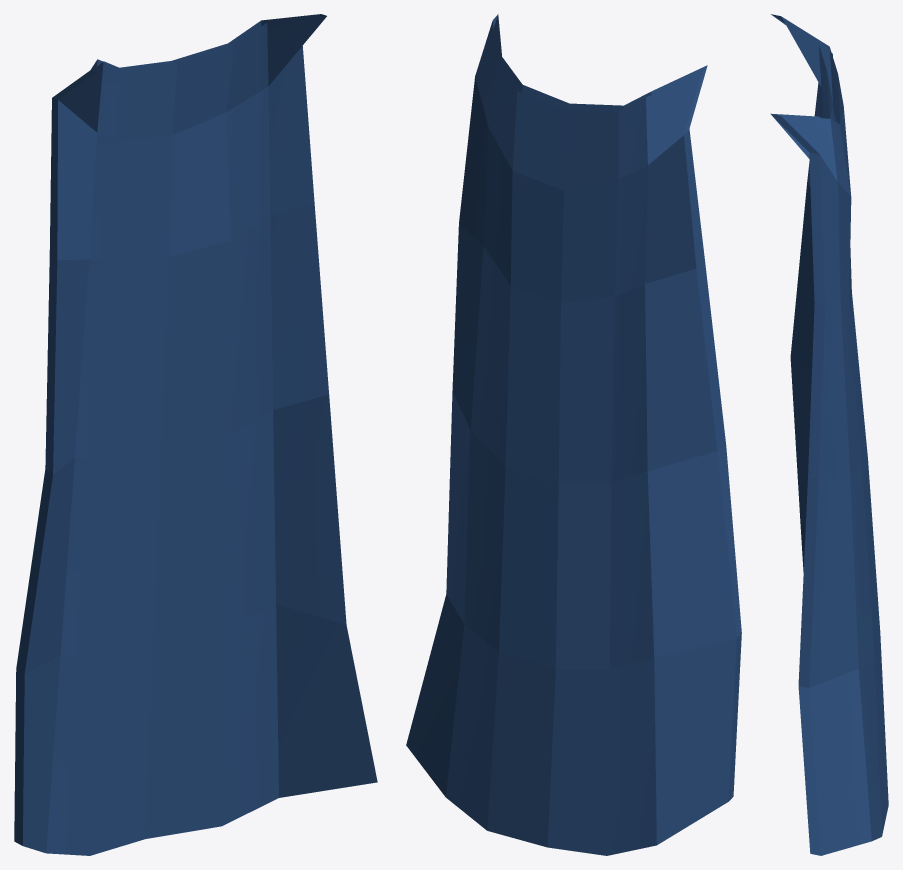
Rendered from claok.fbx.
3 renders of one model, left to right at view 1: azimuth 30°, elevation 25°; view 2: azimuth 150°, elevation 25°; view 3: azimuth 270°, elevation 25°, orthographic. The views are drawn at different scales.
Visible parts, largest first — view 1: CLOAK; view 2: CLOAK; view 3: CLOAK.
Part boxes in pixels (x1,y1,x2,y2): CLOAK: [14, 14, 377, 855]; CLOAK: [406, 14, 741, 855]; CLOAK: [770, 14, 888, 855].
Bounding box in the file's own units: 5115 × 11431 × 1647.
1 material, 1 textured.
